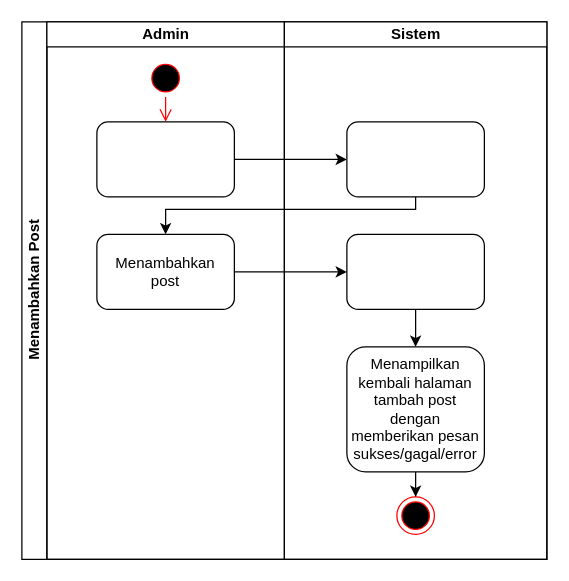
Some shapes in this 569 by 581 pixel diagram are drawn without their labels. Here are the shapes that lost their labels. From the top down, the centre of each, then its label:
At point 165,159: "Membuka halaman tambah post".
At point 415,159: "Menampilkan halaman tambah post".
At point 415,271: "Data post baru ditambahkan".
